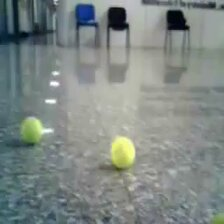tennis: (111, 136, 137, 170), (20, 115, 42, 145)
